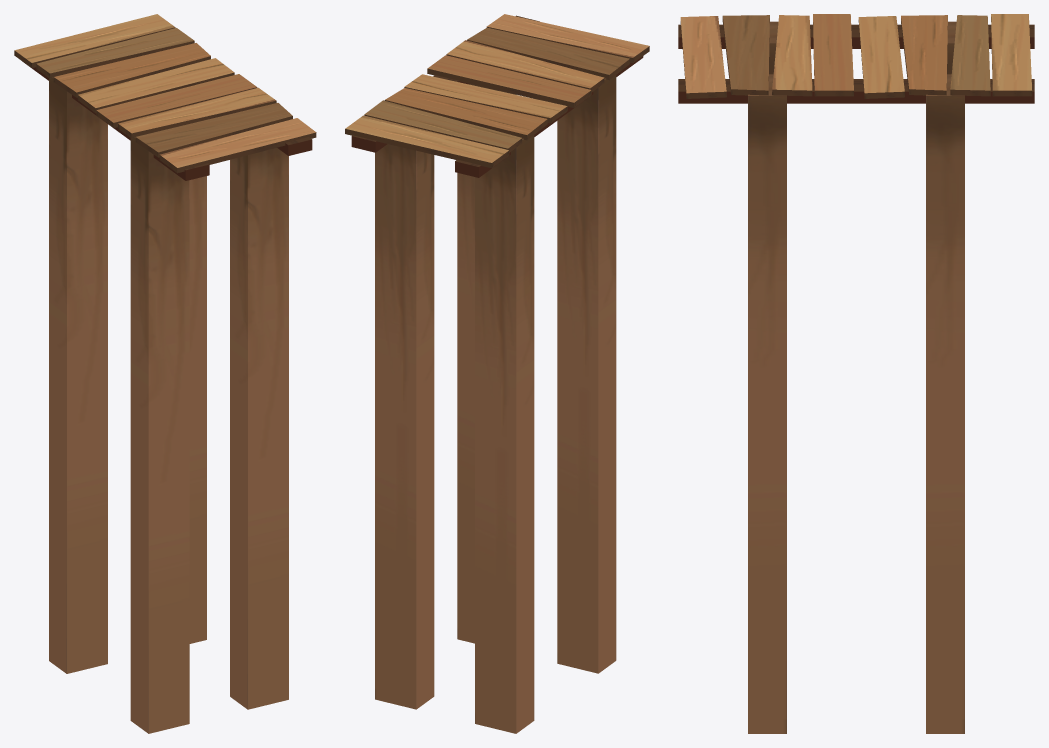
File: bridge_1.gltf
The picture shows the model from 3 angles, left to right: view 1: azimuth 30°, elevation 25°; view 2: azimuth 150°, elevation 25°; view 3: azimuth 270°, elevation 25°; orthographic projection. The views are drawn at different scales.
Parts seen in each view (by area): view 1: Bridge1; view 2: Bridge1; view 3: Bridge1.
Part boxes in pixels (box(x1,y1,x2,y2)): Bridge1: box(14, 14, 316, 733); Bridge1: box(345, 14, 649, 733); Bridge1: box(678, 14, 1034, 733).
Size of what is drawn, in the model's own units: 1.03 by 3.99 by 2.
Materials: 1 (1 with a texture image).
